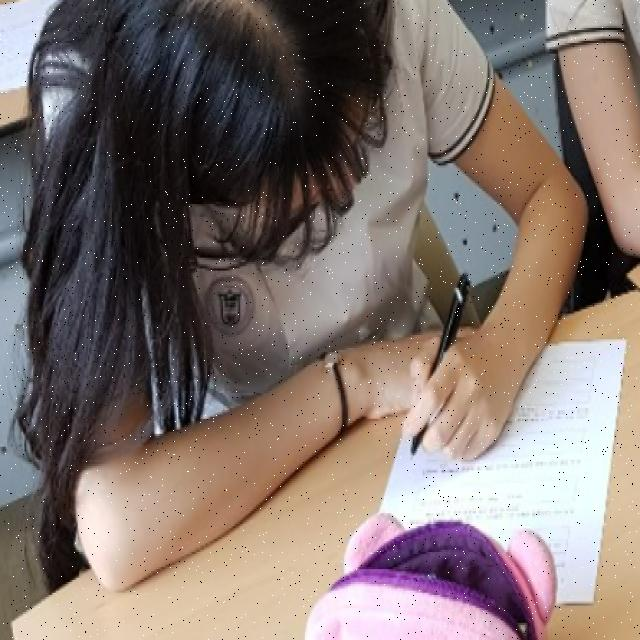logo: (203, 271, 257, 339)
